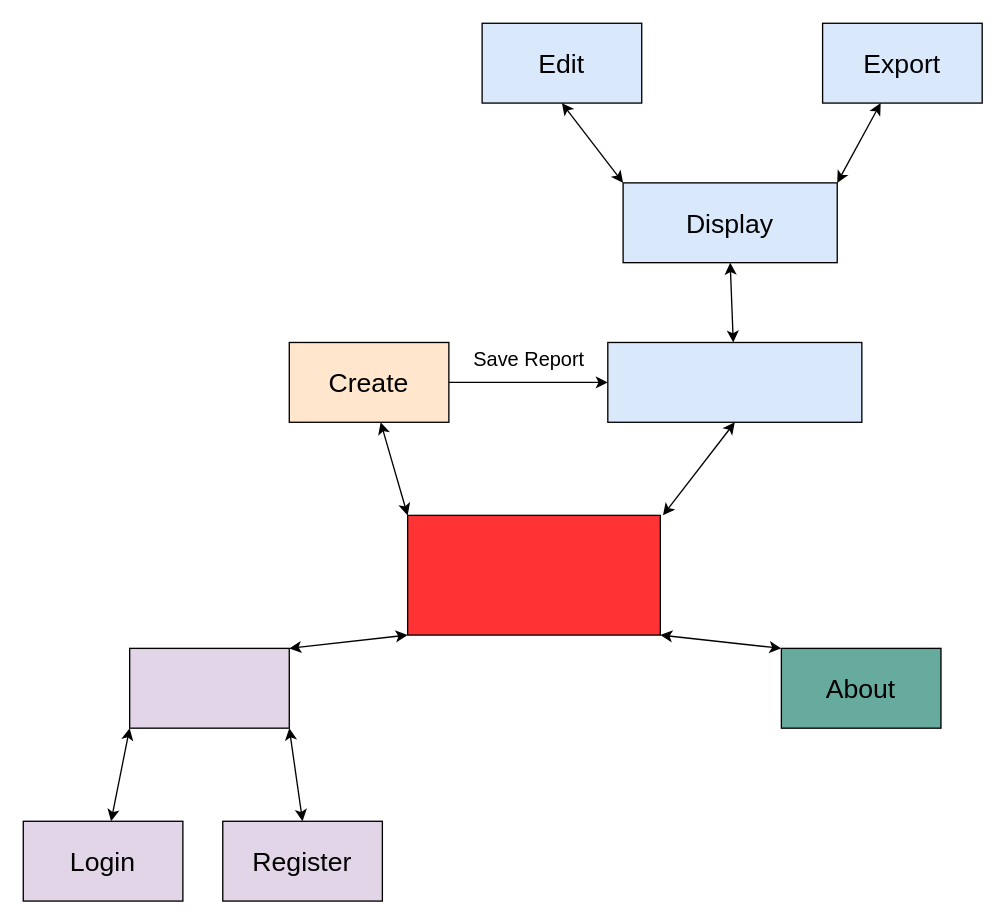
Image size: 1005x924. Some labels were removed from this diagram. Here are the shapes that lost their labels. From the top down, the centre of each, then its label:
At [734,381]: "History".
At [533,574]: "Home".
At [208,687]: "Account".
